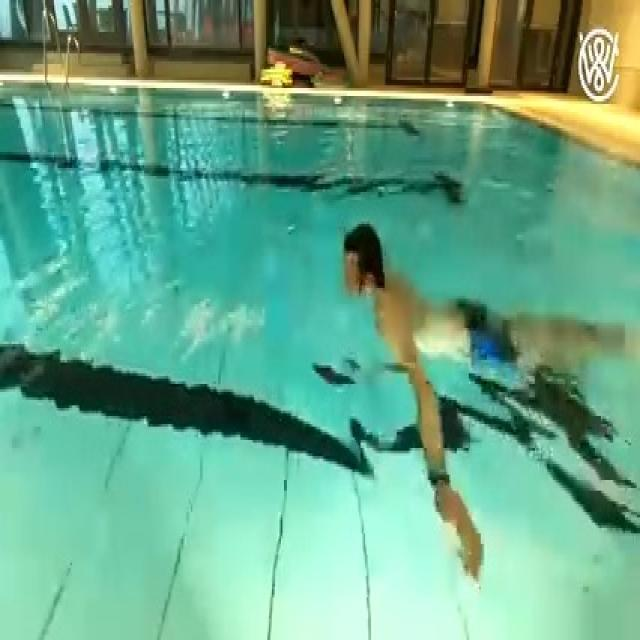Swimming: (341, 224, 636, 571)
